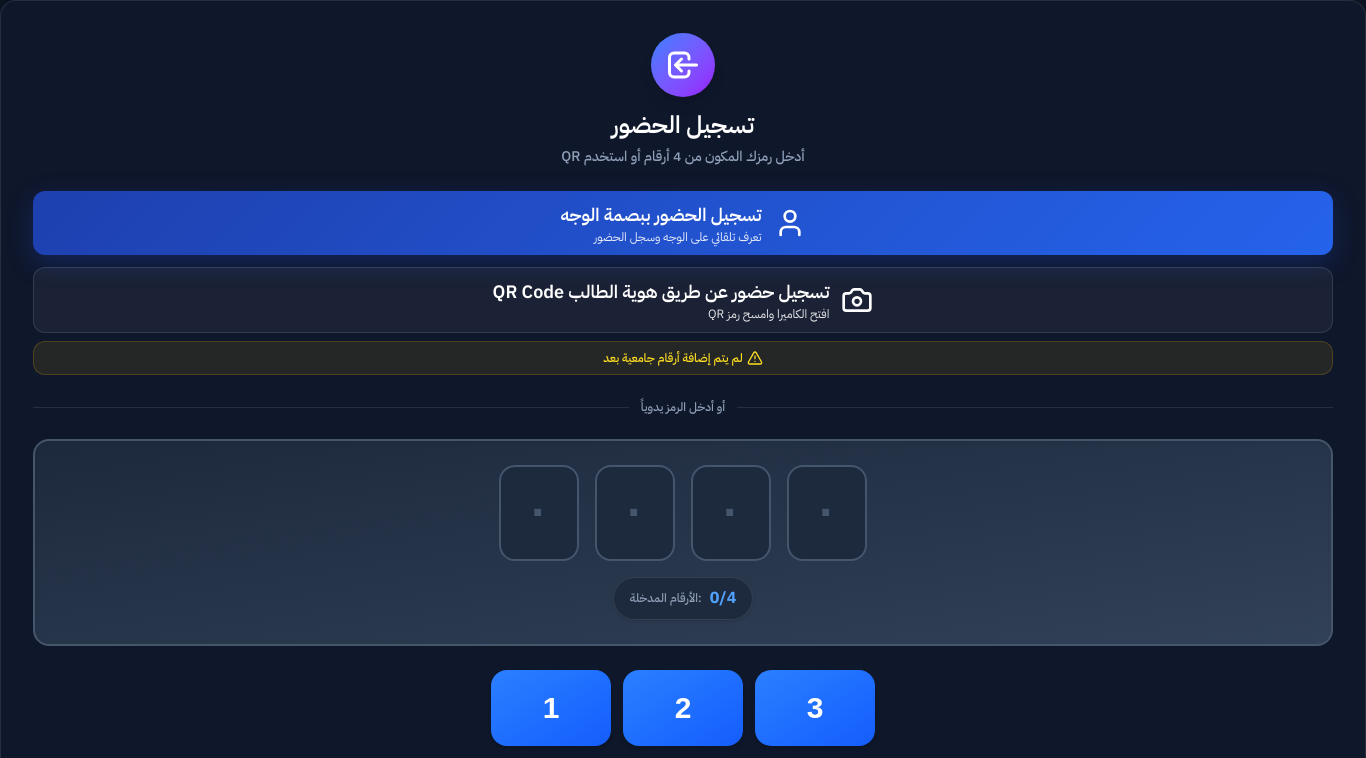
Scenario: AttendanceLogin › updates counter when digits entered via keypad
What coordinates should you click on to do the following:
click the button "1"
I would click on:
 (551, 708)
Its box is [491, 670, 611, 746].
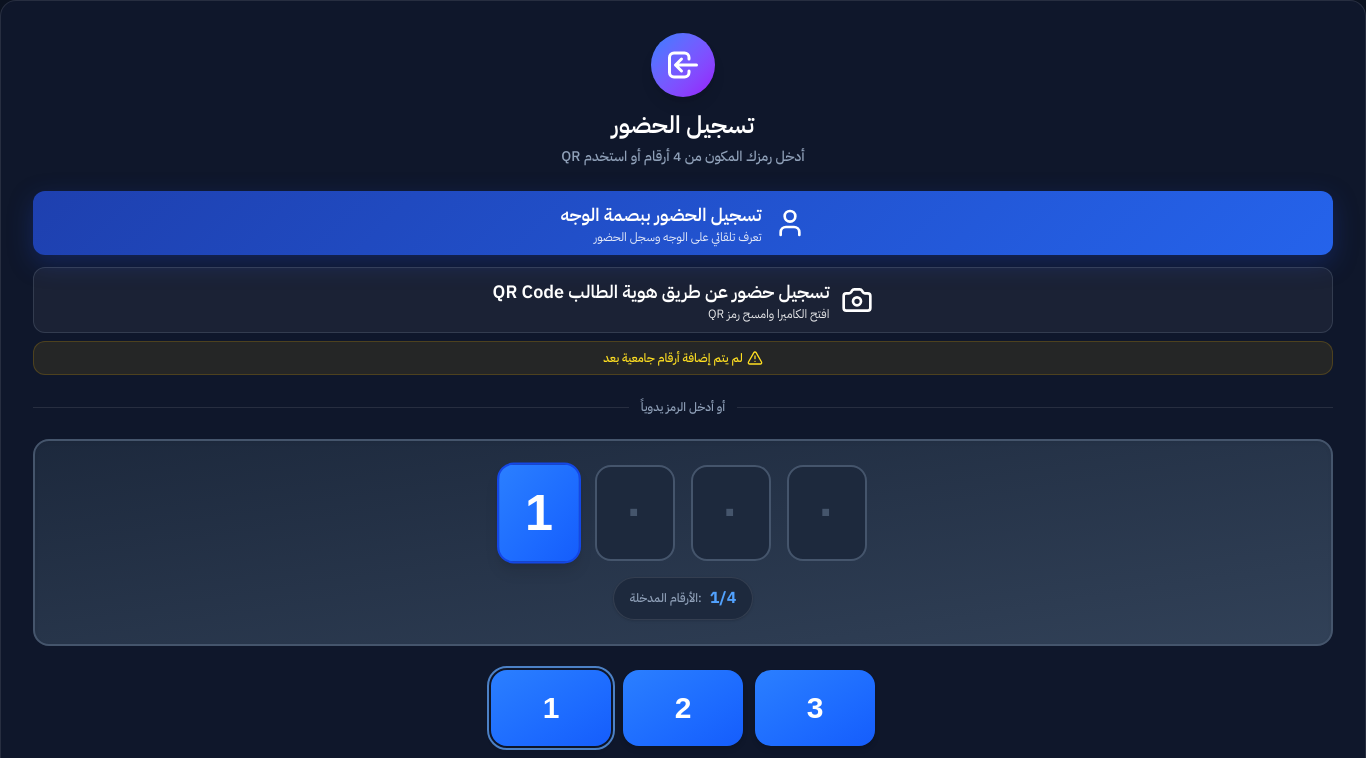
Expected: the text "1/4" is shown, [710, 584, 736, 613]
